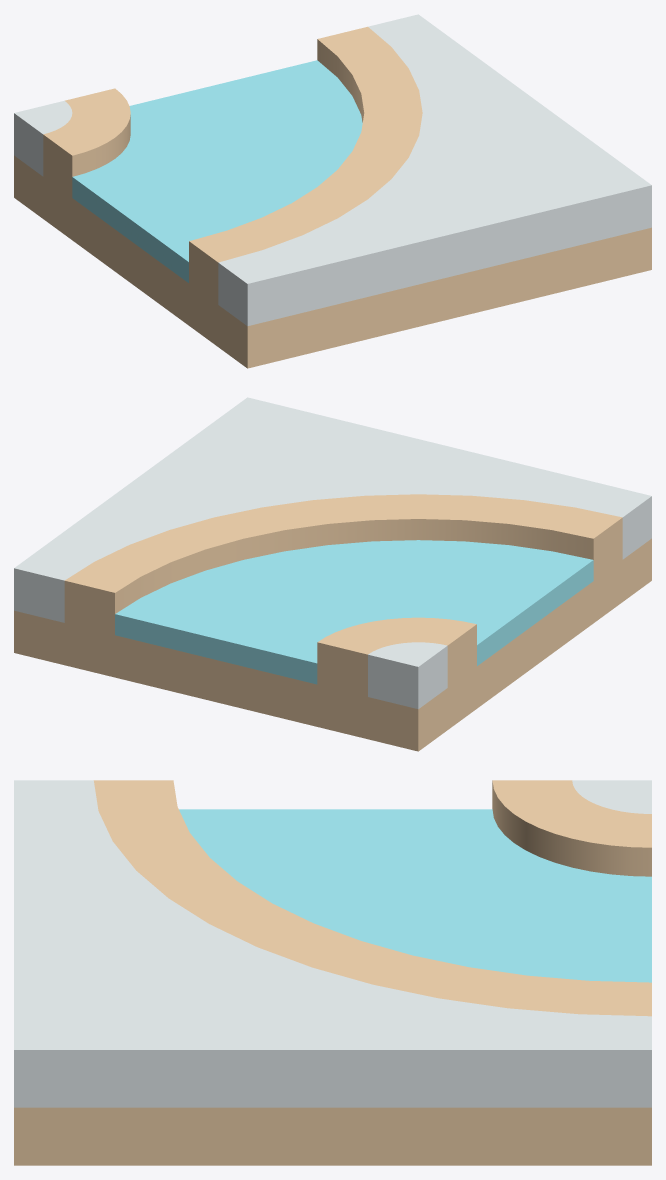
File: snow_tile_riverCorner.glb
3 renders of one model, top to bottom at view 1: azimuth 30°, elevation 25°; view 2: azimuth 150°, elevation 25°; view 3: azimuth 270°, elevation 25°, orthographic. The views are drawn at different scales.
Visible parts, largest first — view 1: snow_tile_riverCorner; view 2: snow_tile_riverCorner; view 3: snow_tile_riverCorner.
Part boxes in pixels (<box>): snow_tile_riverCorner: <box>14,14,651,368</box>; snow_tile_riverCorner: <box>14,397,651,751</box>; snow_tile_riverCorner: <box>14,780,651,1165</box>.
Size of the model in its own units: 1 by 0.2 by 1.
